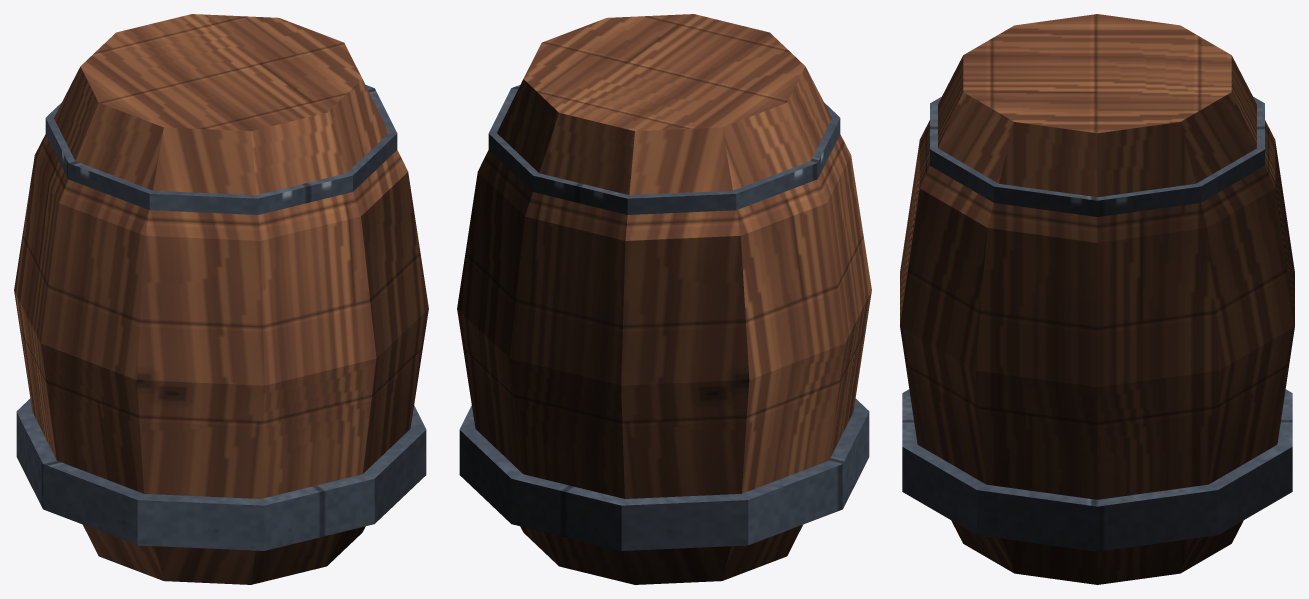
Rendered from barrel.glb.
3 renders of one model, left to right at view 1: azimuth 30°, elevation 25°; view 2: azimuth 150°, elevation 25°; view 3: azimuth 270°, elevation 25°, orthographic.
Visible parts, largest first — view 1: barrel; view 2: barrel; view 3: barrel.
Boxes of the visible parts, box(x1,y1,x2,y2) form: barrel: box(14, 14, 428, 584); barrel: box(457, 14, 871, 584); barrel: box(900, 14, 1294, 584).
Bounding box in the file's own units: 0.5 × 0.602 × 0.4755.
3 materials, 3 textured.
